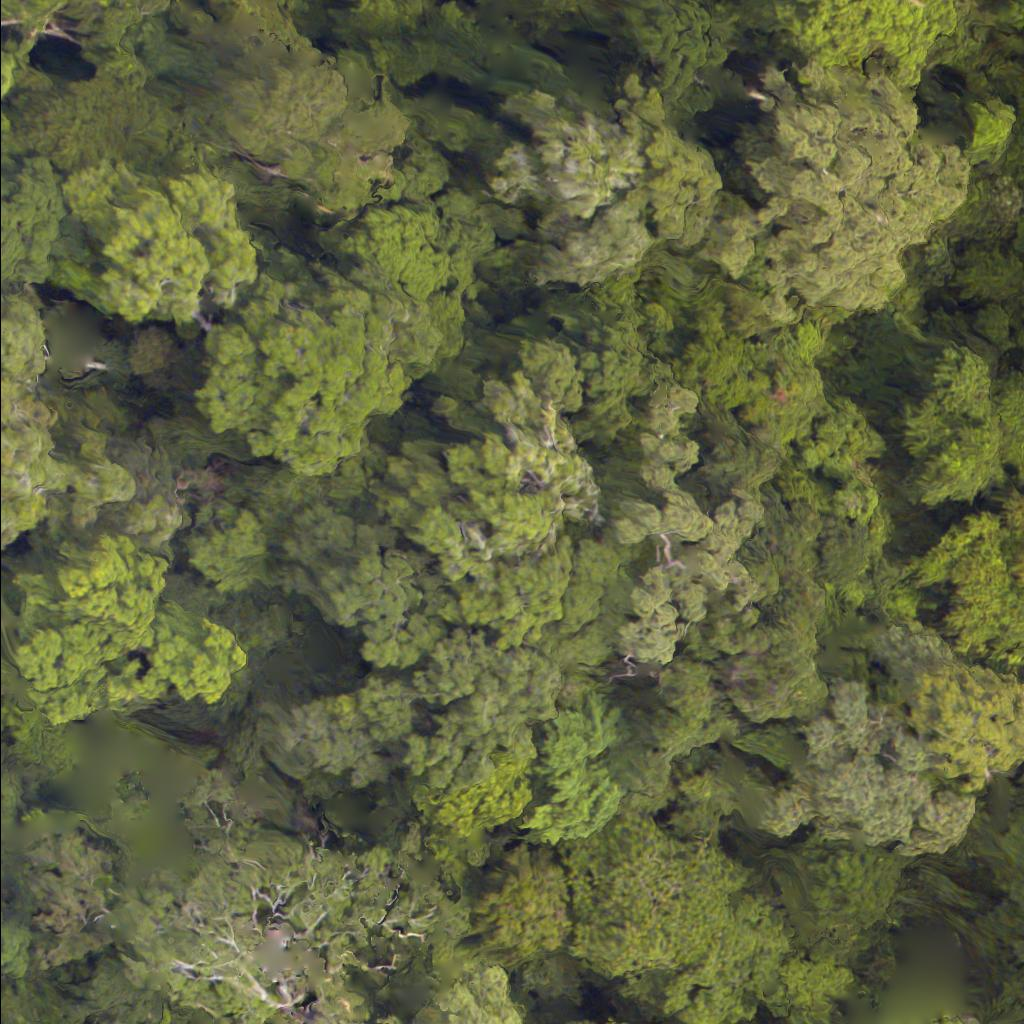crown: (706, 83, 968, 327), (761, 677, 956, 851), (862, 621, 1023, 794), (893, 374, 1023, 528), (925, 503, 1023, 642), (971, 774, 1023, 984)
